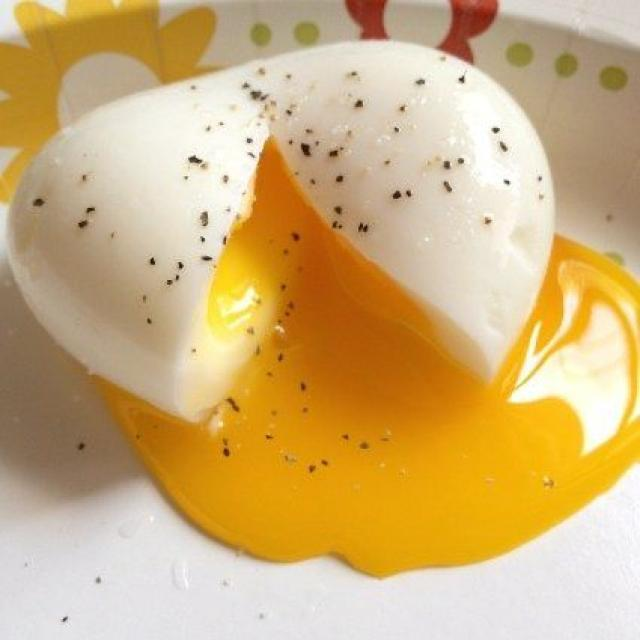egg boiled: (102, 148, 638, 575), (10, 43, 552, 420)
